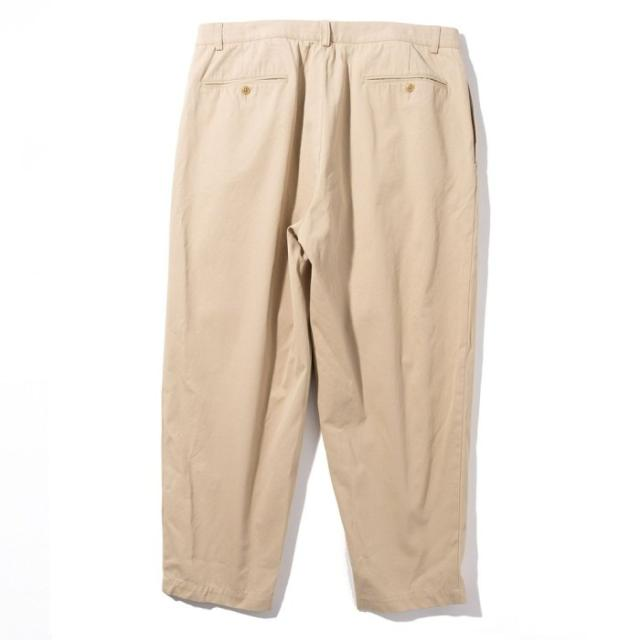long-pants: (160, 16, 480, 613)
